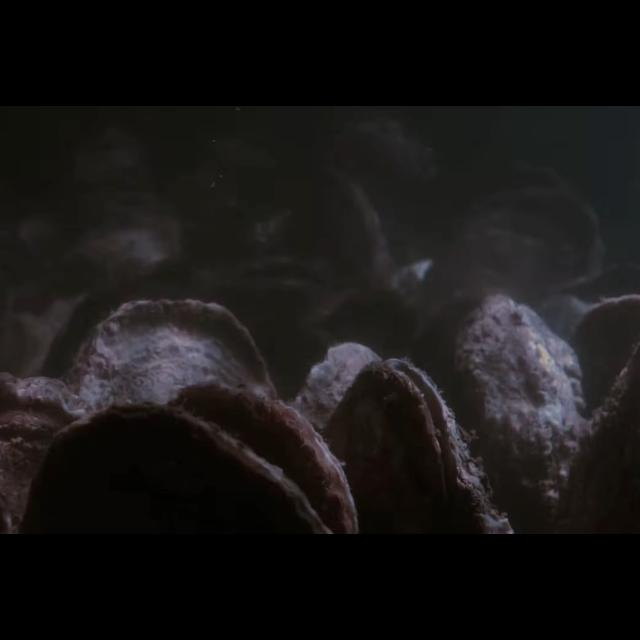Oyster-Closed: (57, 301, 277, 534), (27, 402, 331, 534), (444, 292, 592, 534), (165, 382, 358, 534), (415, 186, 607, 338), (291, 342, 384, 534), (0, 372, 94, 534), (284, 166, 396, 294), (61, 193, 195, 285), (568, 293, 640, 431)
Oyster-Open: (322, 358, 514, 534), (208, 252, 344, 302)
